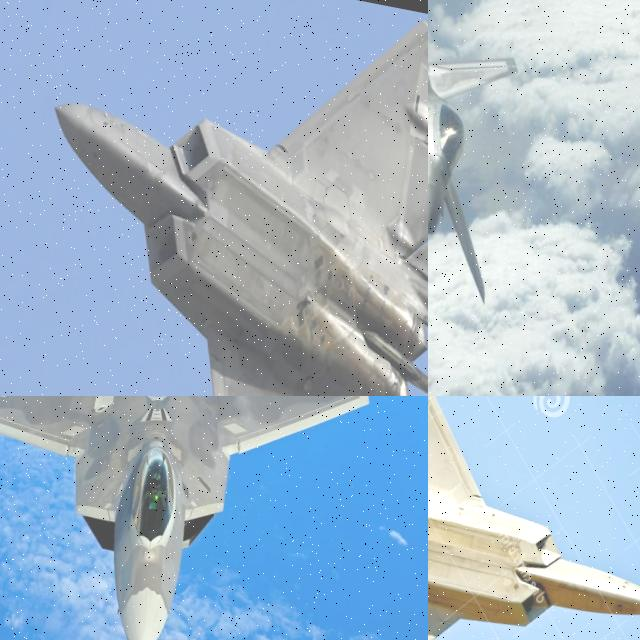F22: (0, 0, 428, 396), (0, 396, 402, 640), (428, 0, 597, 310), (428, 396, 640, 640)
